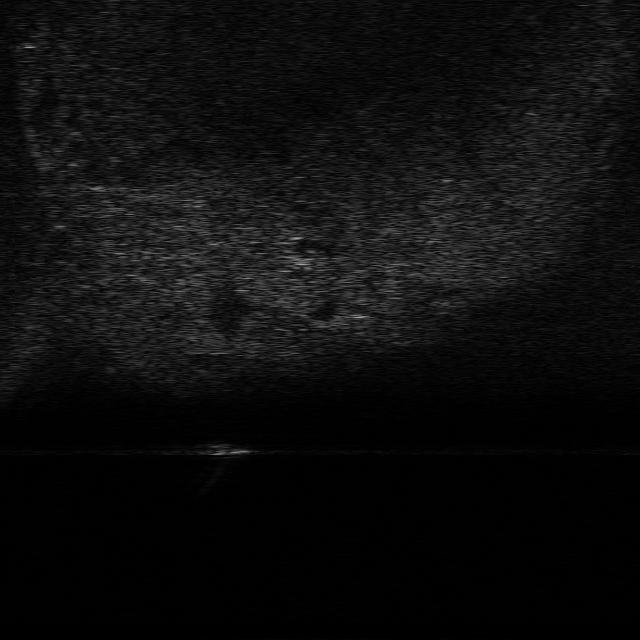cube: (190, 440, 256, 460)
